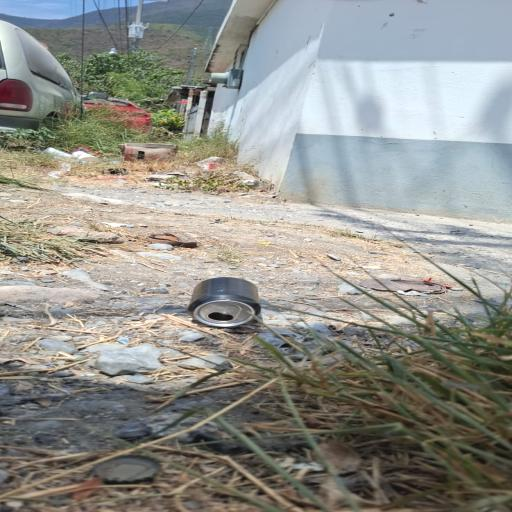LATA: (176, 271, 280, 340)
